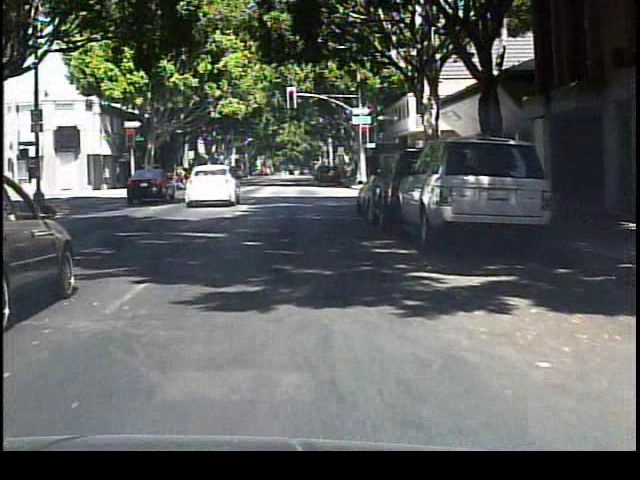person: (168, 161, 195, 200)
